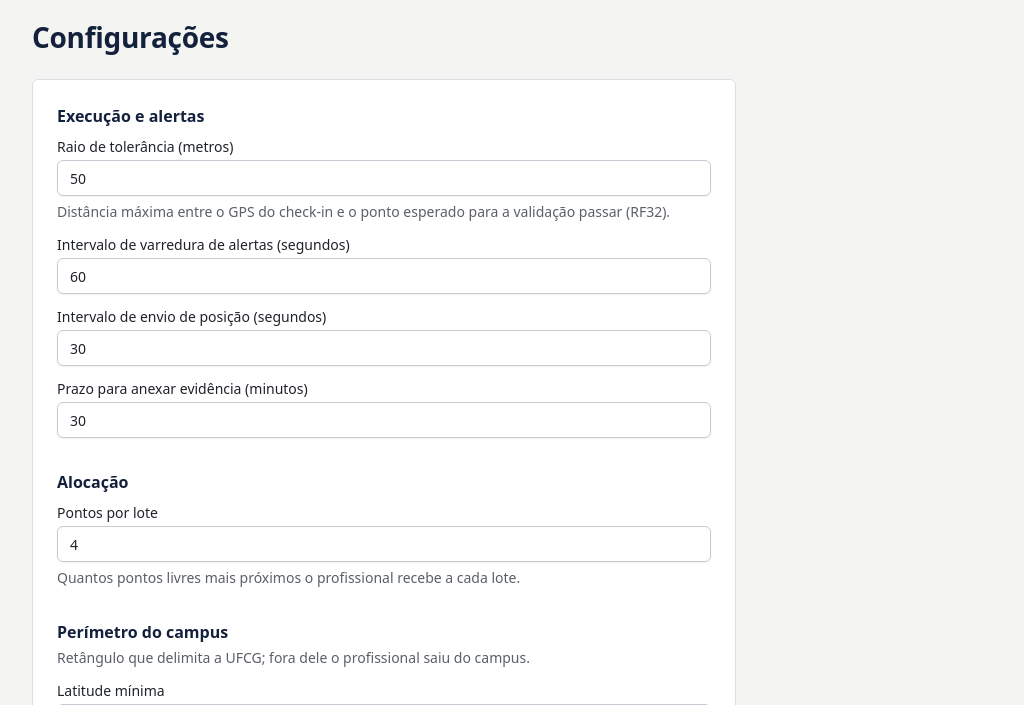
Test: SettingsPage › blocks submit with a field error when the radius is out of range
Replace the text in the number field labelled "Raio de tolerância (metros)" with "0" at coordinates (384, 178), box x1=57 y1=160 x2=711 y2=196
(page scrolled)
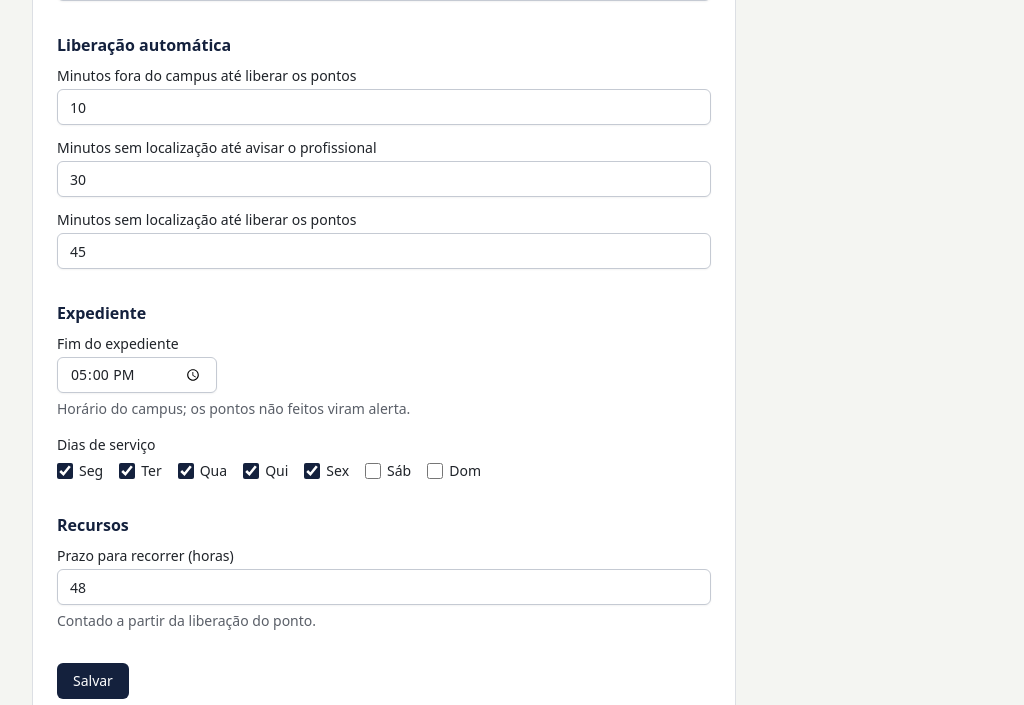
Click the button "Salvar" at coordinates (93, 681), box x1=57 y1=663 x2=129 y2=699
(page scrolled)
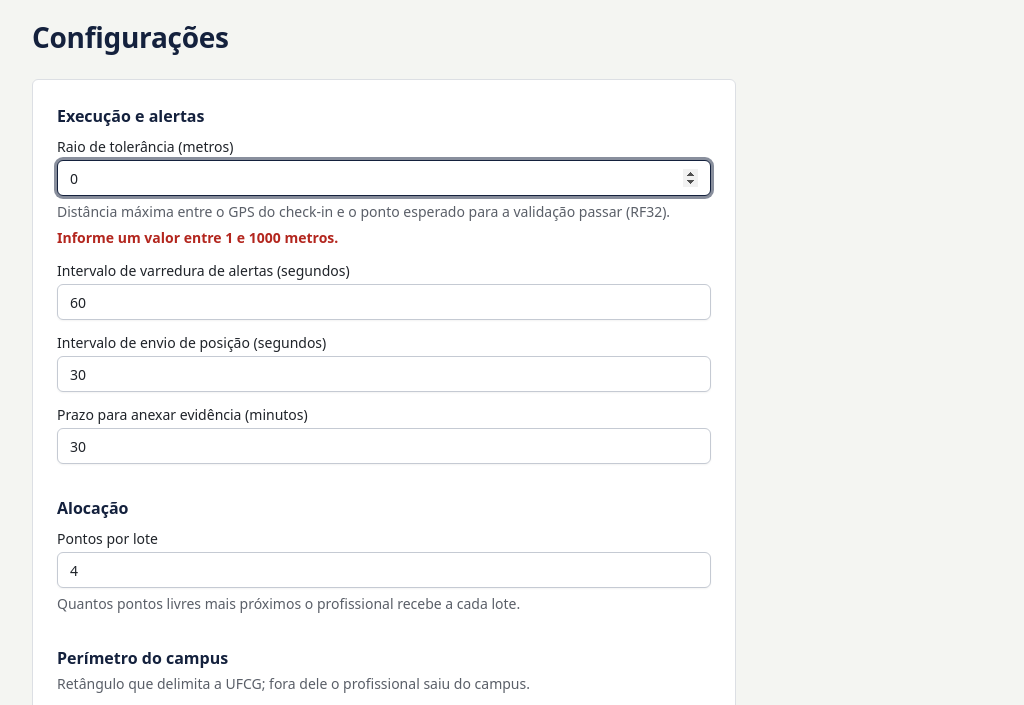
Check: the text "Informe um valor entre 1 e 1000 metros." is shown, box x1=57 y1=228 x2=338 y2=247
